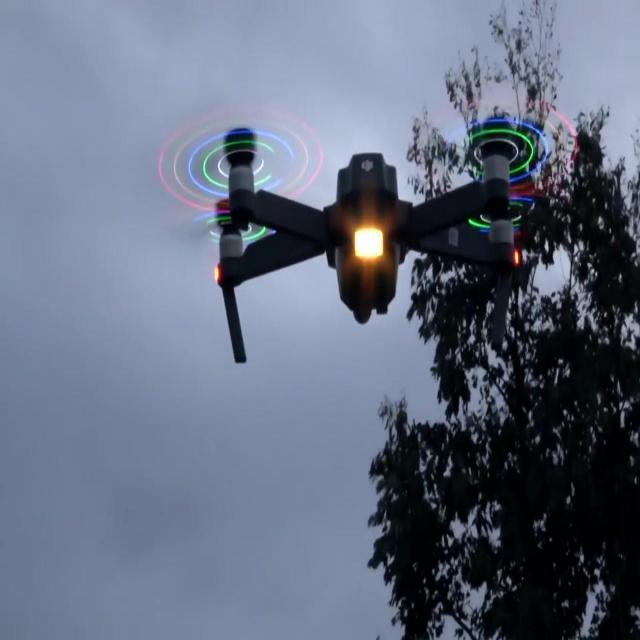UAV: (157, 96, 578, 364)
